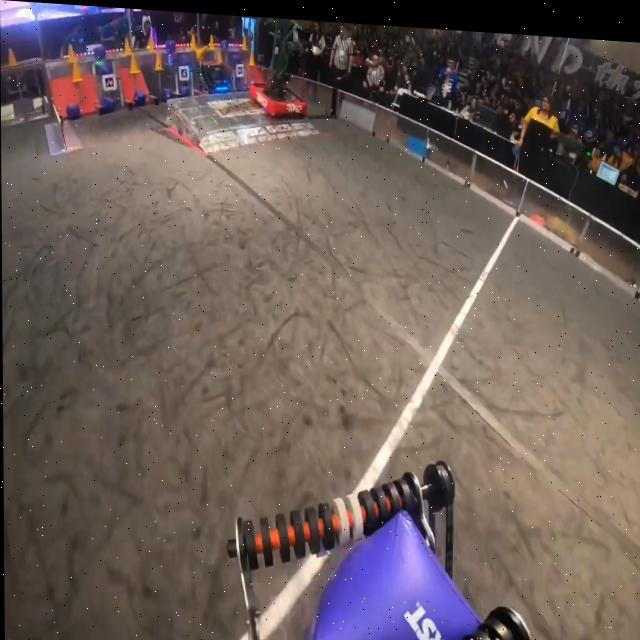robot: (250, 13, 308, 117), (196, 52, 234, 94)
